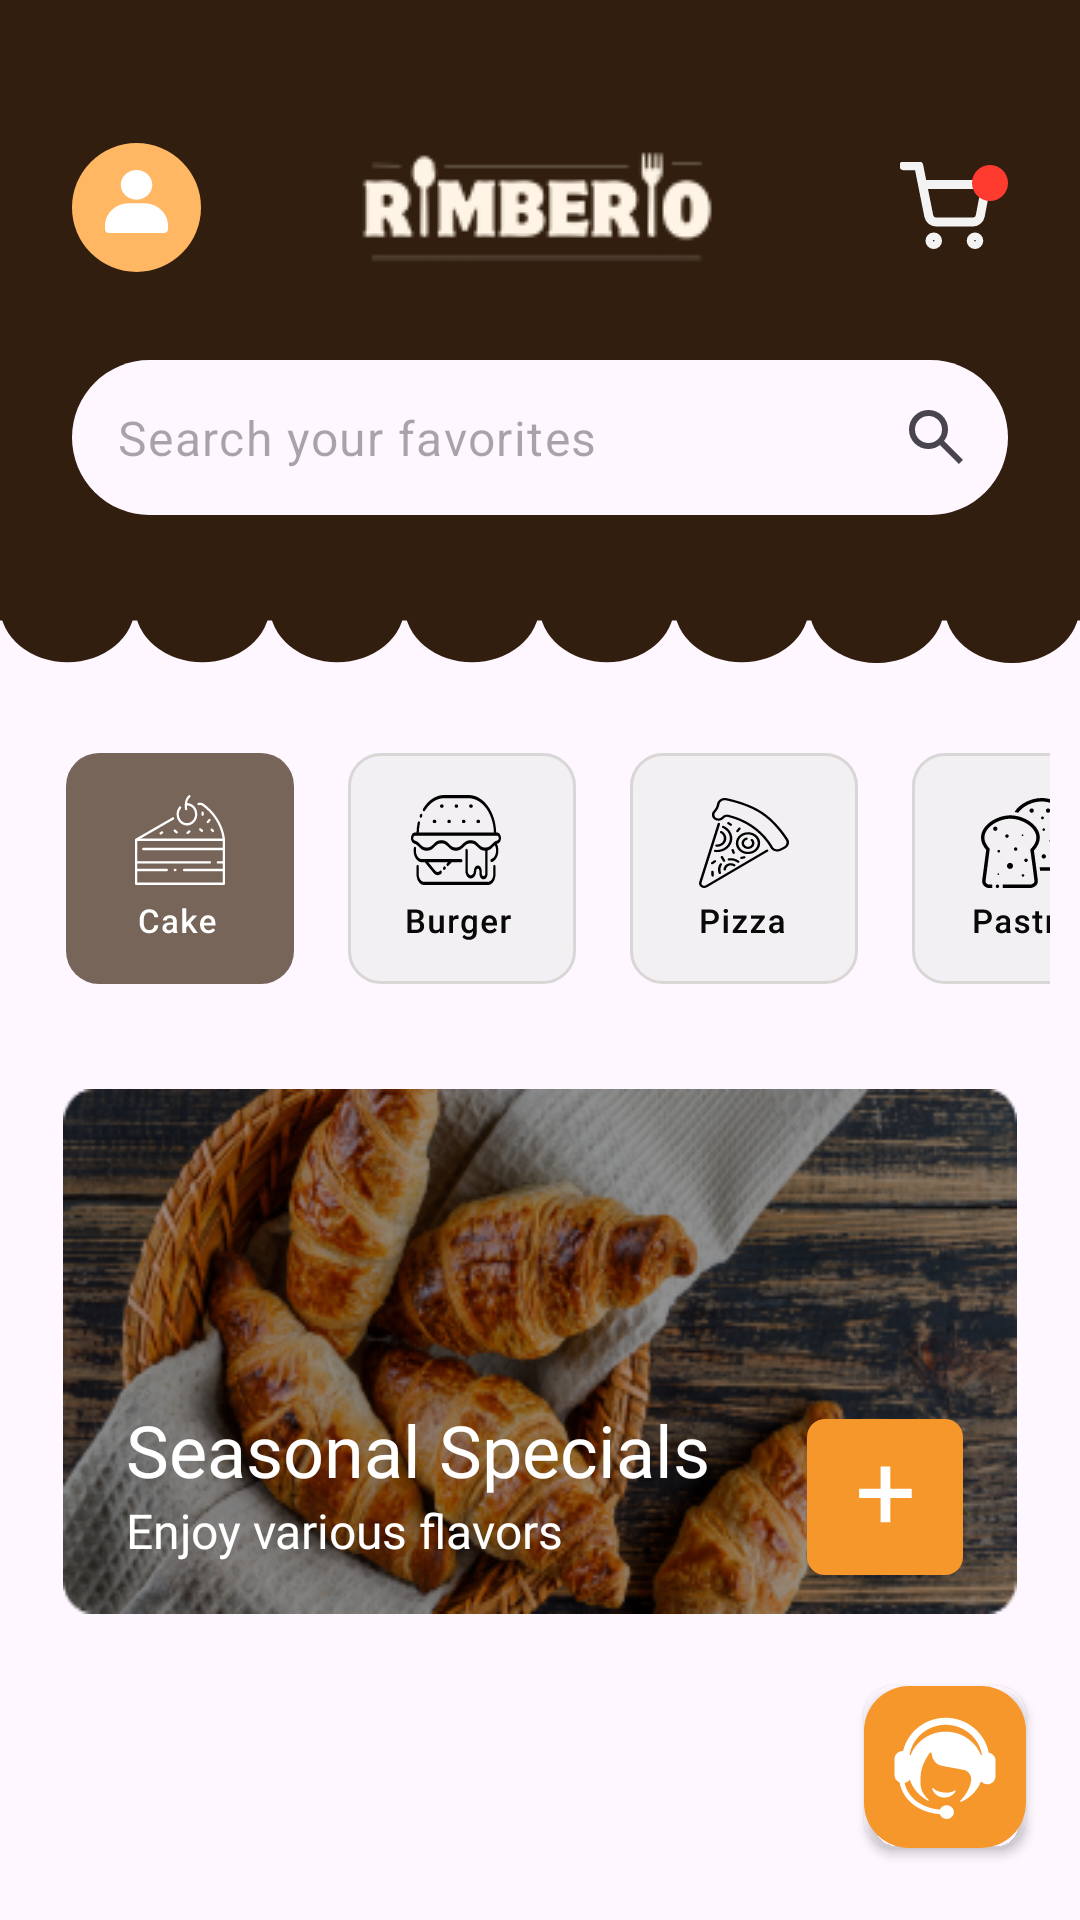

Named icons in this screenshot (1080×1920) and their centers, (x=x, y=y):
cart: (x=954, y=205)
contact shop: (x=945, y=1767)
profile: (x=136, y=207)
